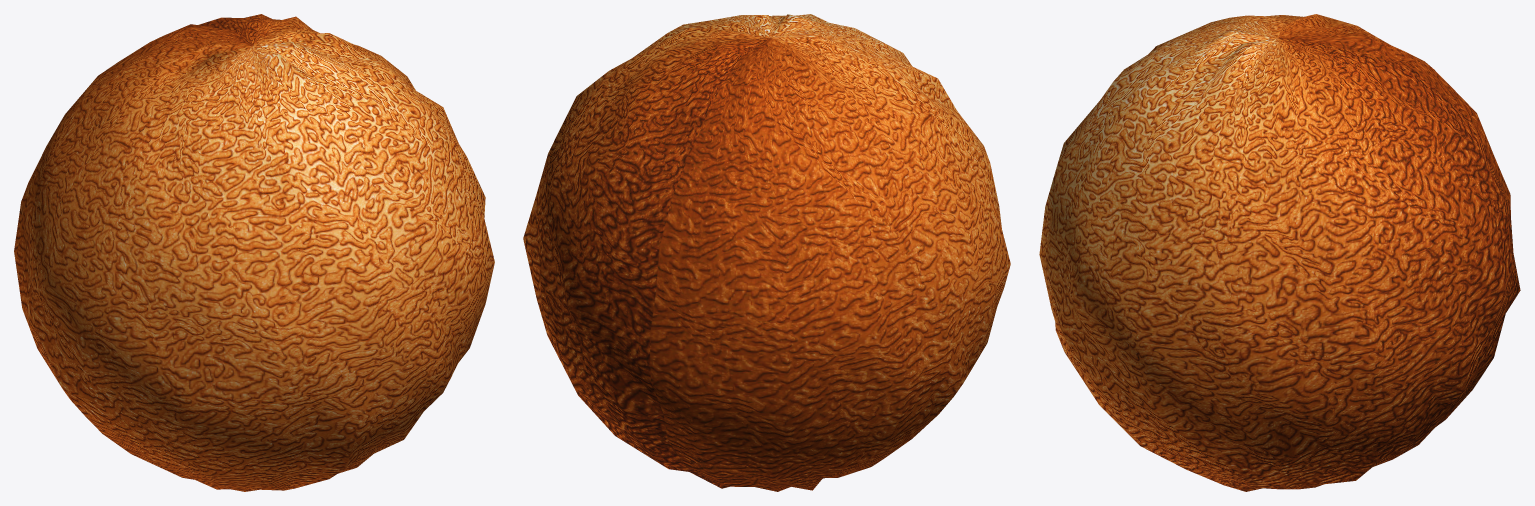
File: egg.FBX
The picture shows the model from 3 angles, left to right: view 1: azimuth 30°, elevation 25°; view 2: azimuth 150°, elevation 25°; view 3: azimuth 270°, elevation 25°; orthographic projection.
Visible parts, largest first — view 1: egg; view 2: egg; view 3: egg.
Part boxes in pixels (x1,y1,x2,y2): egg: [14, 14, 494, 491]; egg: [523, 14, 1010, 491]; egg: [1039, 14, 1520, 491].
Size of the model in its own units: 133 by 133 by 133.
Materials: 1 (1 with a texture image).
